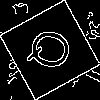Q: (25, 25, 83, 76)
